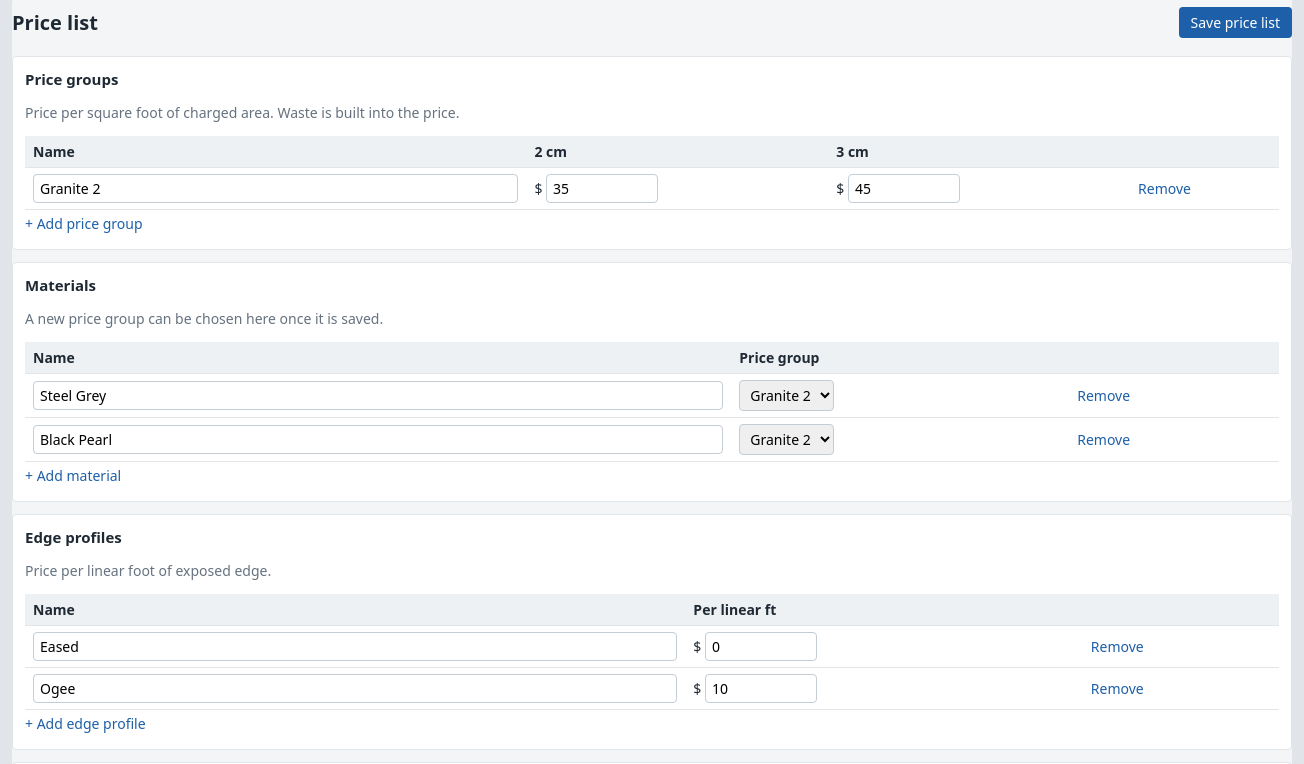
the price list page › highlights a changed price with its old value, and saves it
Replace the text in the number field named "Granite 2 3 cm price per sq ft" with "48" at (904, 188), box [848,174,960,203]
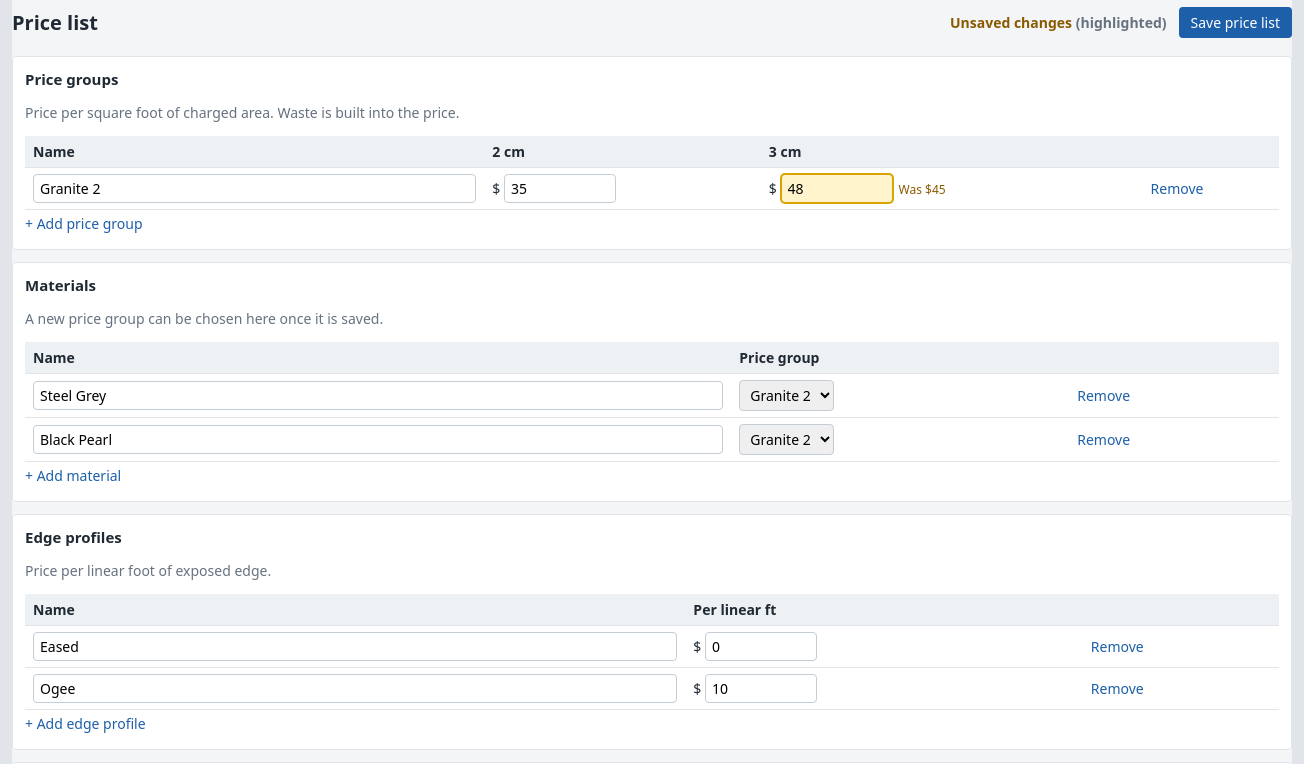
Now the text "Unsaved changes" is shown, box [950,13,1076,32]
Replace the text in the number field named "Eased price per linear ft" with "12" at (761, 646), box [705,632,817,661]
(page scrolled)
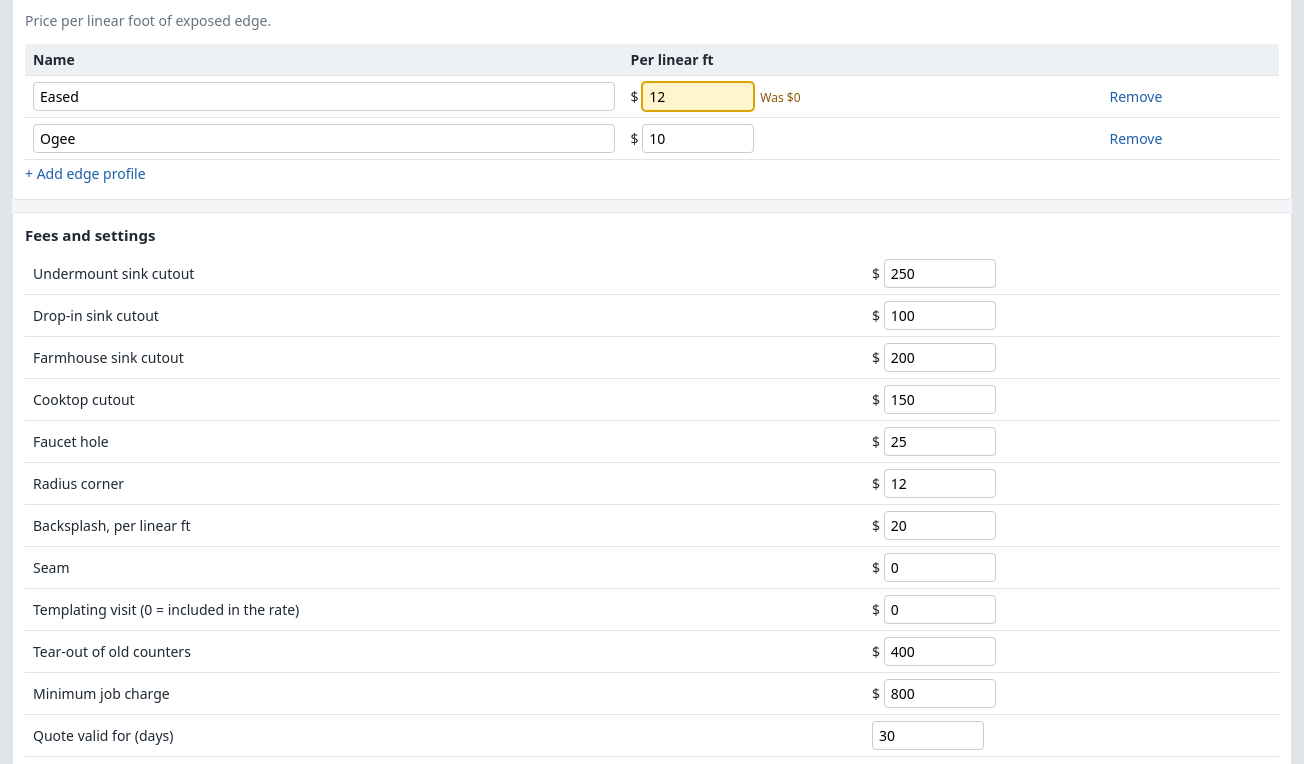
Replace the text in the number field named "Quote valid for" with "45" at (928, 736), box [872,721,984,750]
(page scrolled)
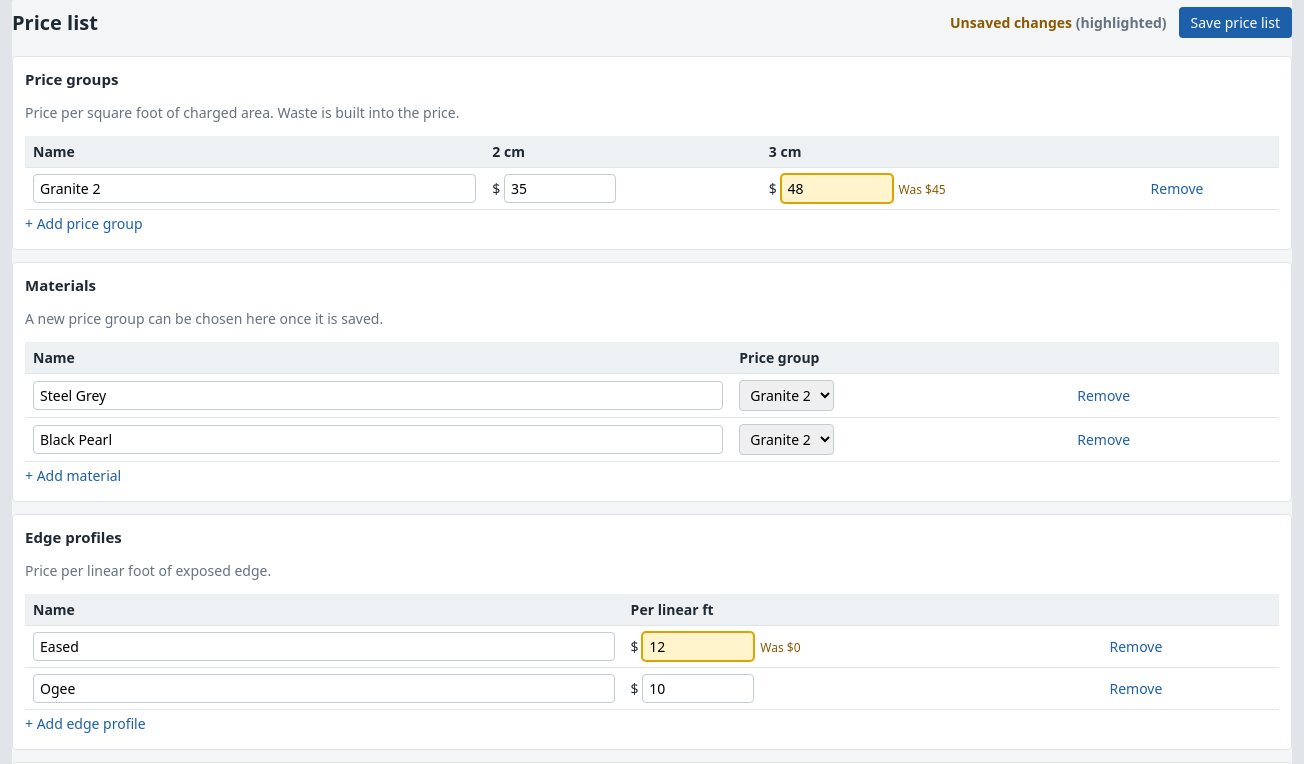
Click the button "Save price list".
click(1235, 22)  # box [1179,7,1292,38]
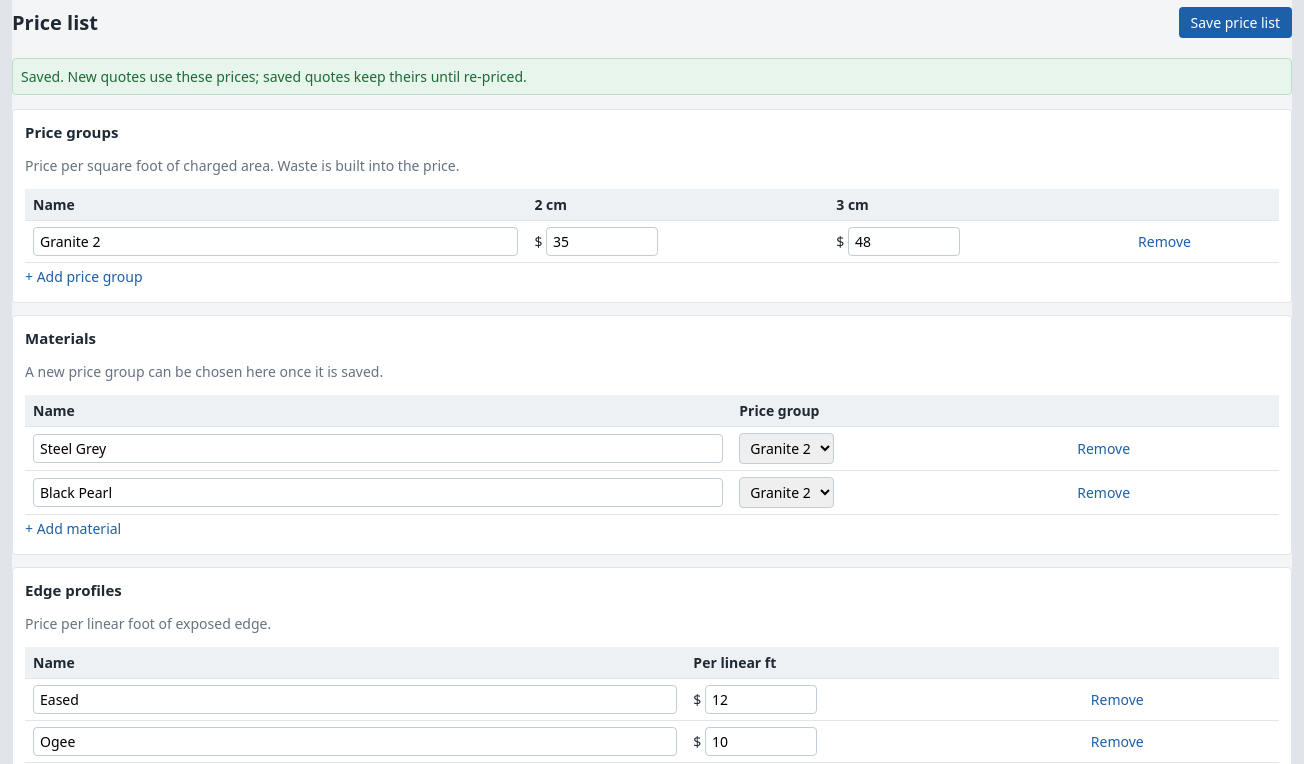
Now the text "Saved. New quotes use these prices" is shown, box [21,67,527,86]
Now the text "Unsaved changes" is gone
